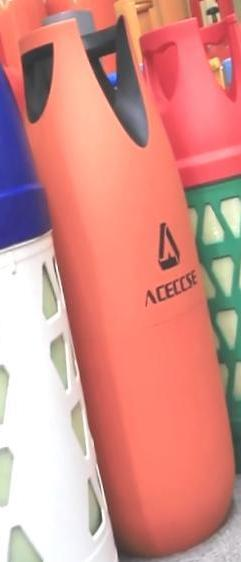cylinder: (1, 1, 241, 562)
